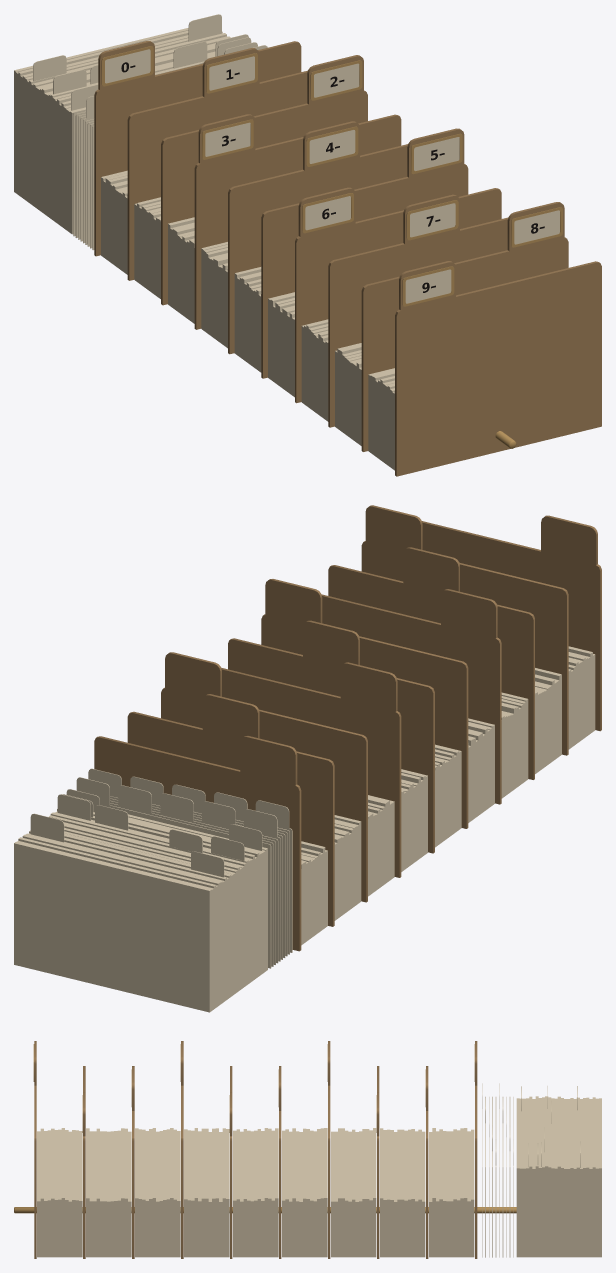
The model's file is catalogue_tray.glb.
The picture shows the model from 3 angles, top to bottom: view 1: azimuth 30°, elevation 25°; view 2: azimuth 150°, elevation 25°; view 3: azimuth 270°, elevation 25°; orthographic projection. The views are drawn at different scales.
Parts seen in each view (by area): view 1: cards_filler, IA_divider_9, IA_divider_1, IA_divider_7, IA_divider_4, IA_divider_8, IA_divider_6, IA_divider_3, IA_divider_0, IA_divider_5, IA_divider_2; view 2: cards_filler, IA_divider_3, IA_divider_9, IA_divider_6, IA_divider_0, IA_divider_1, IA_divider_4, IA_divider_5, IA_divider_7, IA_divider_8, IA_divider_2, IA_card_9 (+9 smaller); view 3: cards_filler, IA_divider_0, IA_divider_3, IA_divider_6, IA_divider_9, IA_divider_1, IA_divider_2, IA_divider_4, IA_divider_5, IA_divider_7, IA_divider_8, tray_rod (+3 smaller).
Part boxes in pixels (box(x1,y1,x2,y2)): cards_filler: box(14, 14, 394, 470); IA_divider_9: box(395, 261, 601, 476); IA_divider_1: box(127, 48, 307, 280); IA_divider_7: box(328, 194, 508, 427); IA_divider_4: box(228, 121, 407, 354); IA_divider_8: box(361, 202, 568, 451); IA_divider_6: box(295, 187, 501, 403); IA_divider_3: box(194, 114, 401, 329); IA_divider_0: box(94, 41, 301, 256); IA_divider_5: box(261, 128, 468, 378); IA_divider_2: box(161, 55, 367, 305); cards_filler: box(14, 646, 595, 1012); IA_divider_3: box(221, 662, 401, 877); IA_divider_9: box(422, 515, 601, 731); IA_divider_6: box(321, 589, 501, 804); IA_divider_0: box(94, 736, 301, 951); IA_divider_1: box(127, 694, 334, 926); IA_divider_4: box(228, 620, 434, 853); IA_divider_5: box(261, 579, 468, 828); IA_divider_7: box(328, 547, 534, 779); IA_divider_8: box(361, 505, 568, 755); IA_divider_2: box(161, 652, 367, 902); IA_card_9: box(76, 777, 271, 968); cards_filler: box(37, 1086, 601, 1257); IA_divider_0: box(474, 1041, 477, 1258); IA_divider_3: box(327, 1041, 330, 1258); IA_divider_6: box(180, 1041, 183, 1258); IA_divider_9: box(33, 1041, 36, 1258); IA_divider_1: box(425, 1066, 428, 1258); IA_divider_2: box(376, 1066, 379, 1258); IA_divider_4: box(278, 1066, 281, 1258); IA_divider_5: box(229, 1066, 232, 1258); IA_divider_7: box(131, 1066, 134, 1258); IA_divider_8: box(82, 1066, 85, 1258); tray_rod: box(14, 1207, 516, 1213).
Bounding box in the file's own units: 0.13 × 0.122 × 0.4402.
